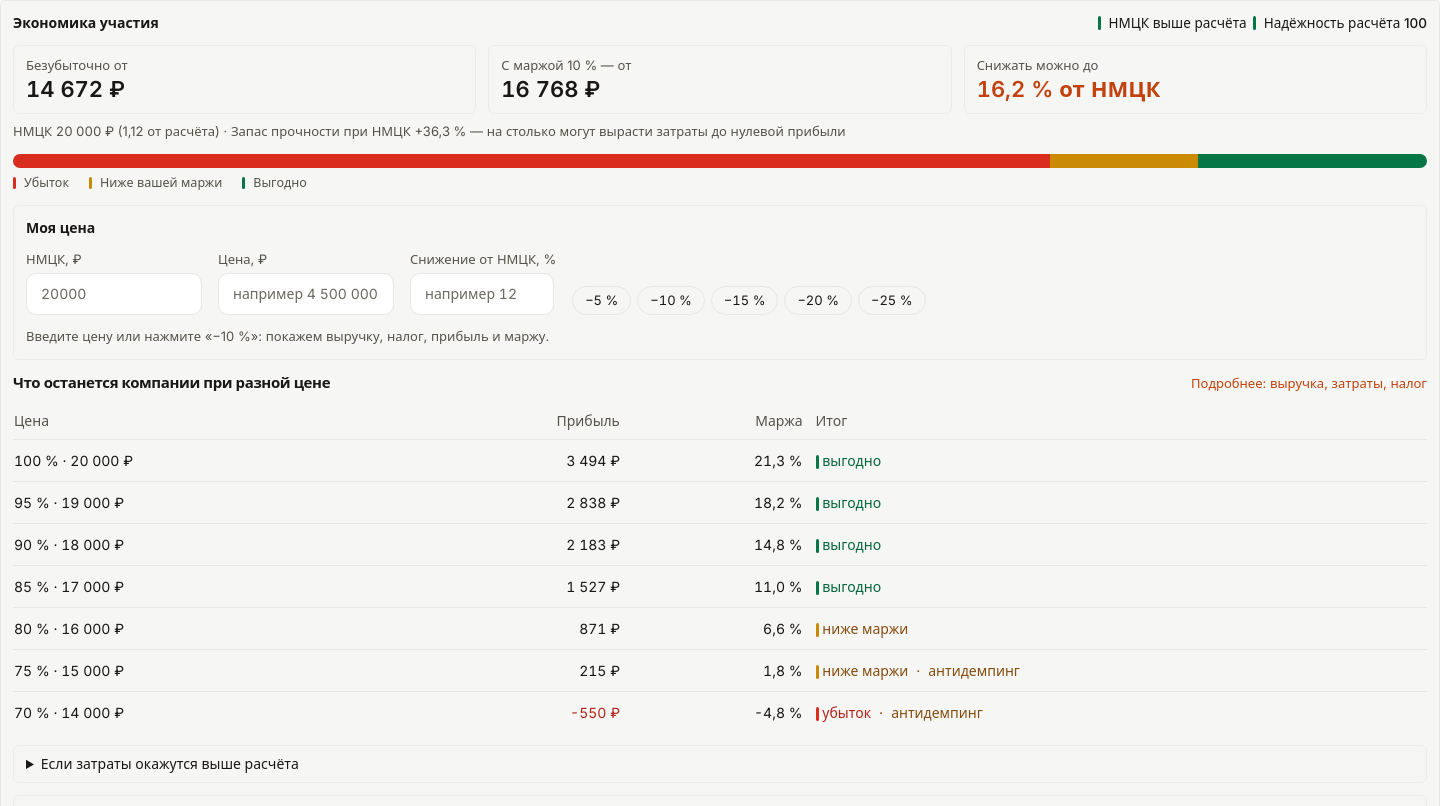
AuditBidEconomics › на карточке закупки с одной сметой берётся НМЦК закупки и закон; закон 44-ФЗ делает антидемпинг безусловным
Click the button "−25 %".
click(892, 300)  # box [858,286,926,315]
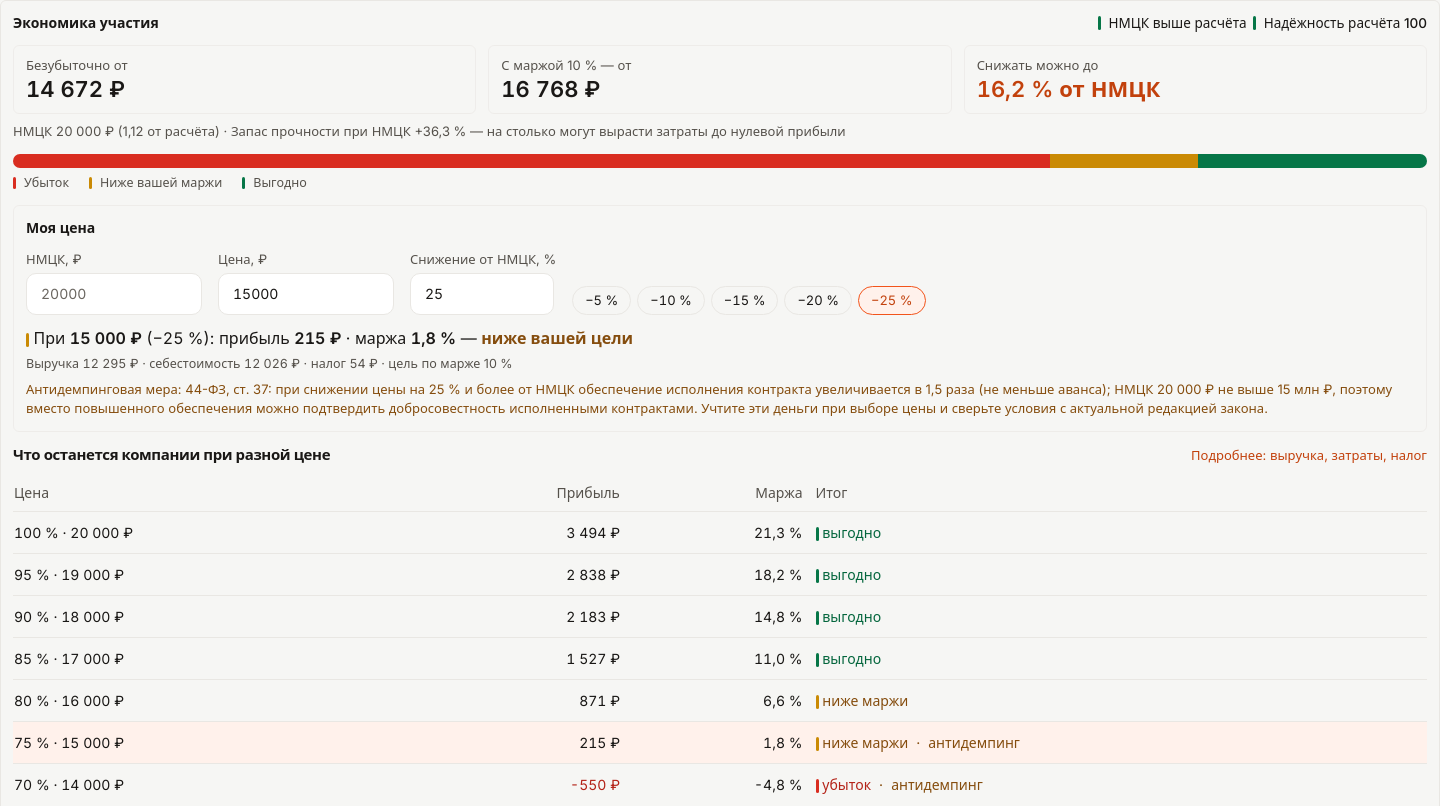
Expected: the text with test id "my-price-antidumping" shows "44-ФЗ, ст. 37", [26,381,1392,416]
